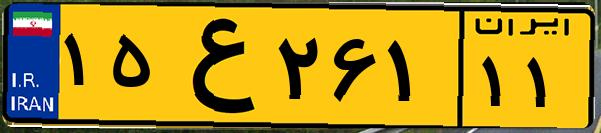1: (385, 28, 445, 110), (57, 26, 110, 100), (475, 38, 525, 113), (525, 38, 570, 115)
2: (270, 28, 330, 110)
5: (110, 28, 158, 98)
6: (330, 28, 385, 110)
ع: (158, 12, 270, 120)
